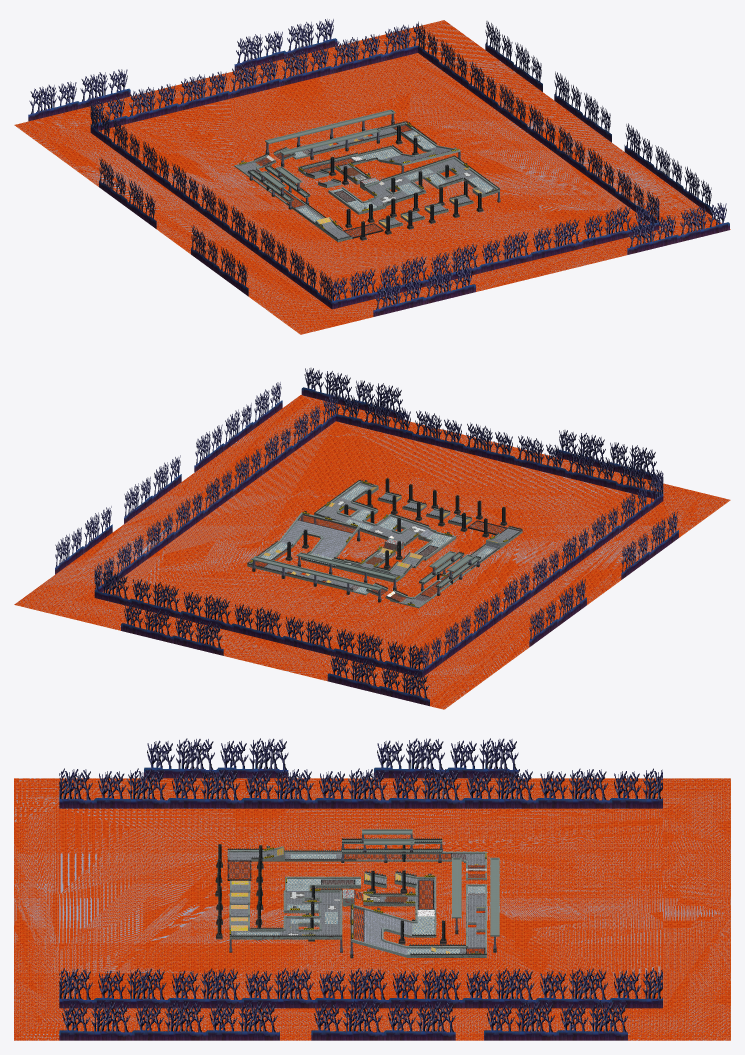
3 views of the same model, one above another, from view 1: azimuth 30°, elevation 25°; view 2: azimuth 150°, elevation 25°; view 3: azimuth 270°, elevation 25° (orthographic). The views are drawn at different scales.
Parts seen in each view (by area): view 1: SketchUp (×13), group_44 (×2); view 2: SketchUp (×12), group_44 (×2), group_30; view 3: SketchUp (×12), group_44 (×2), group_30 (×2), group_26.
Part boxes in pixels (<box>): SketchUp (×13): <box>14,19,730,334</box>; group_44 (×2): <box>363,156,499,205</box>; SketchUp (×12): <box>14,368,730,709</box>; group_44 (×2): <box>314,481,428,545</box>; group_30: <box>281,520,351,557</box>; SketchUp (×12): <box>14,738,730,1040</box>; group_44 (×2): <box>229,890,342,939</box>; group_30 (×2): <box>350,904,416,957</box>; group_26: <box>491,858,498,934</box>.
Bounding box in the file's own units: 29895 × 34498 × 2370.
Materials: 21 (19 with a texture image).
